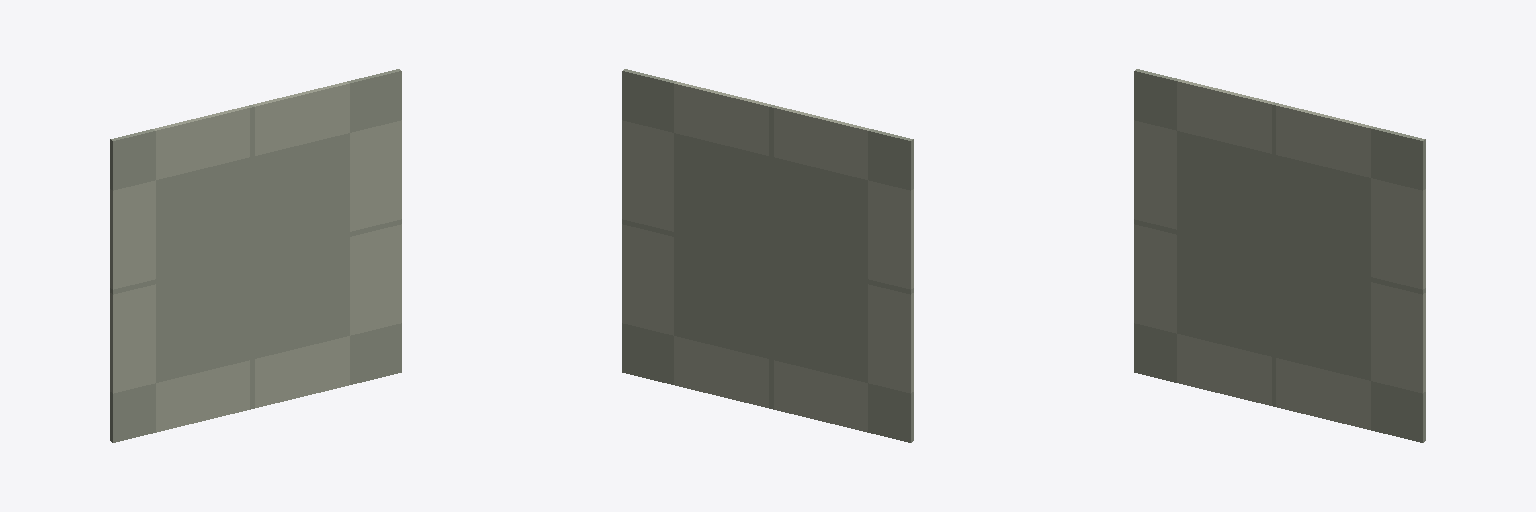
The picture shows the model from 3 angles: view 1: azimuth 30°, elevation 25°; view 2: azimuth 150°, elevation 25°; view 3: azimuth 330°, elevation 25°; orthographic projection.
Parts seen in each view (by area): view 1: object 1; view 2: object 1; view 3: object 1.
Boxes of the visible parts, x1,y1,x2,y2 form: object 1: [110, 69, 401, 442]; object 1: [622, 69, 913, 442]; object 1: [1134, 69, 1425, 442].
Size of the model in its own units: 6.1 by 6.1 by 0.1.
Materials: 1 (1 with a texture image).